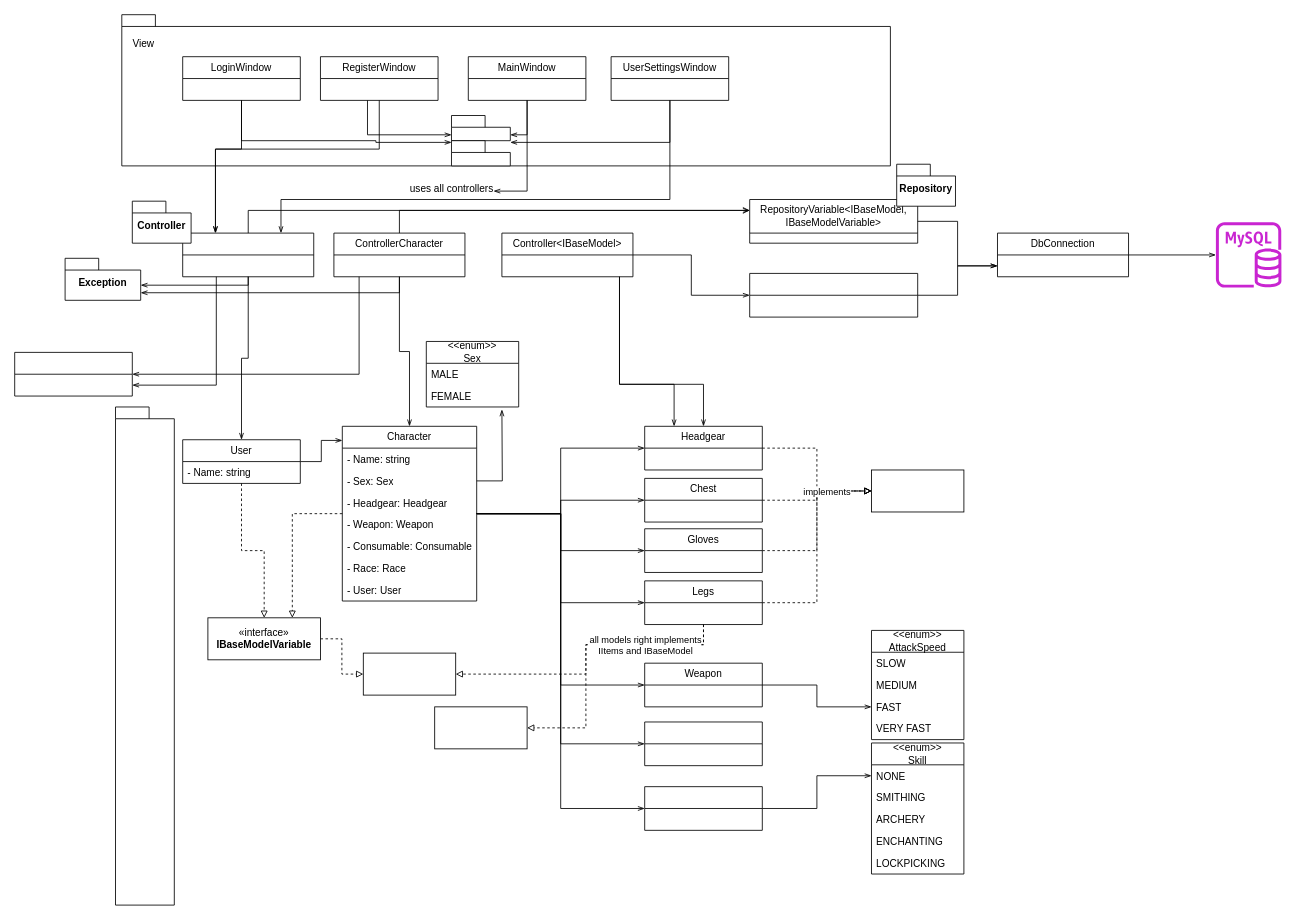
Some shapes in this 1296 by 920 pixel diagram are drawn without their labels. The centre of each missing label's shape, as x and y in pixels:
Consumable: [703,743]
ControllerUser: [248,254]
DataHandler: [73,374]
Font: [480,153]
Model: [144,655]
Race: [703,808]
Repository<IBaseModel>: [833,295]
Resources: [480,128]
«interface» IBaseModel: [409,673]
«interface» IClothing: [917,490]
«interface» IItem: [480,727]
